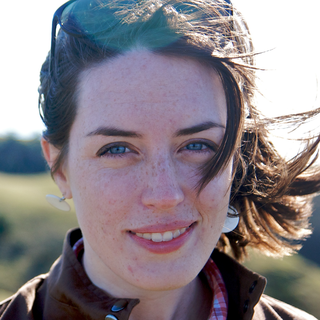eye: (173, 135, 220, 159), (93, 139, 143, 161)
